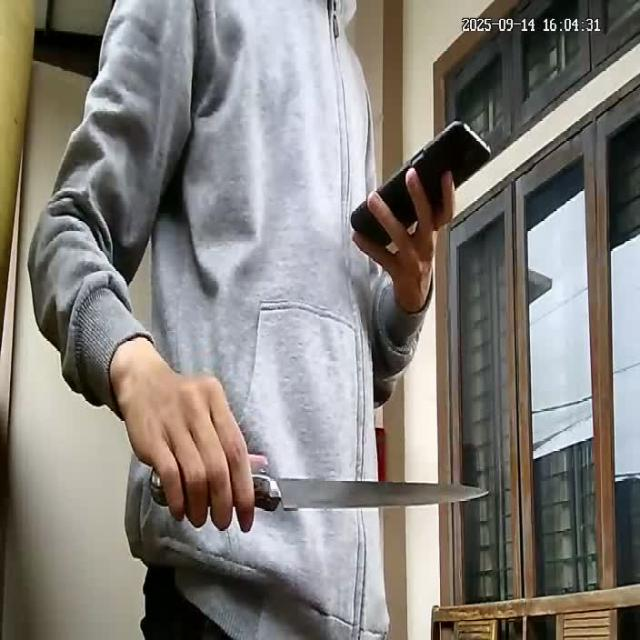senjata_tajam: (254, 466, 491, 514)
